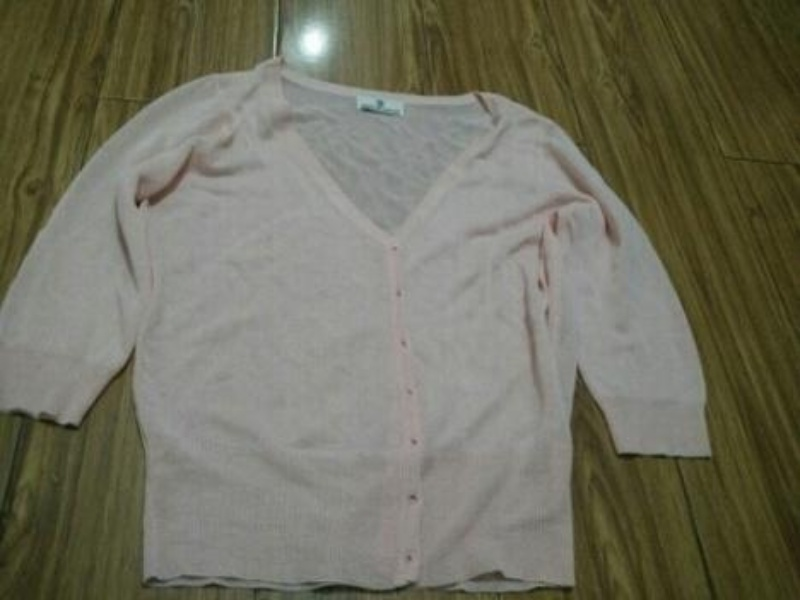long_sleeved_shirt: (0, 56, 718, 598)
